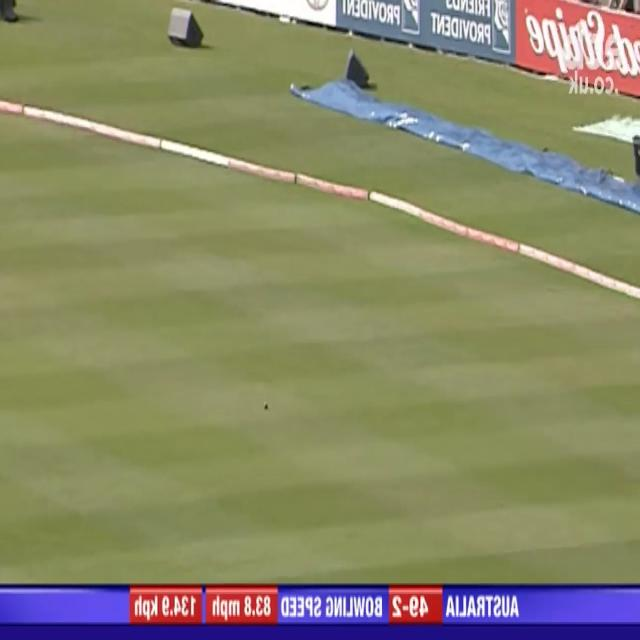ball: (263, 399, 270, 413)
